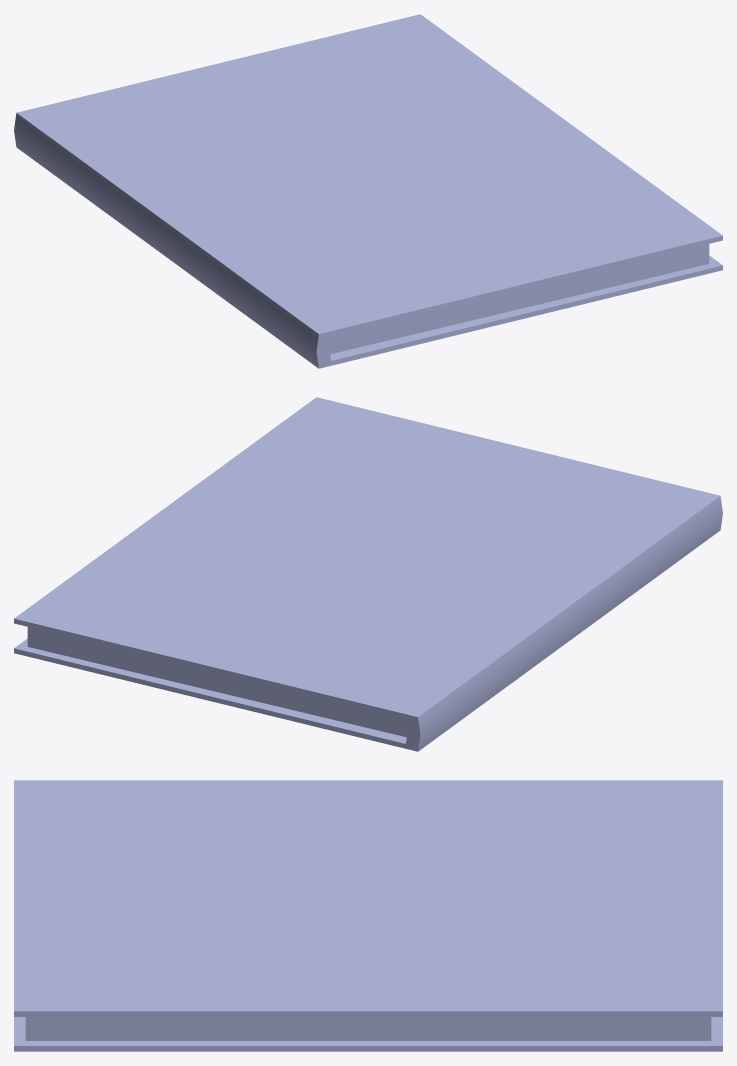
The model's file is Magazine.fbx.
3 renders of one model, top to bottom at view 1: azimuth 30°, elevation 25°; view 2: azimuth 150°, elevation 25°; view 3: azimuth 270°, elevation 25°, orthographic. The views are drawn at different scales.
Parts seen in each view (by area): view 1: JY25C9_low; view 2: JY25C9_low; view 3: JY25C9_low.
Boxes of the visible parts, x1,y1,x2,y2 form: JY25C9_low: (14,14,722,368); JY25C9_low: (14,397,722,751); JY25C9_low: (14,780,722,1051).
Bounding box in the file's own units: 0.2172 × 0.0177 × 0.28.
